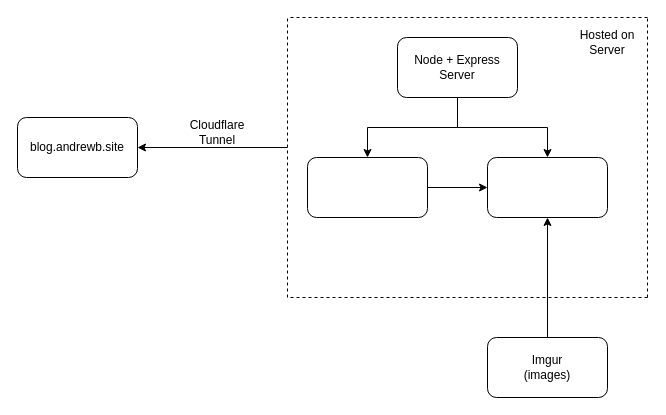
This 666x415 diagram has some shape labels left out. The shapes that lost their labels are listed below. From the top down, each one's box as (x1, y1, x2, y2) in pixels, then its label:
(306, 156, 428, 218): JSON Object (blog entries)
(486, 156, 608, 218): React (frontend)
